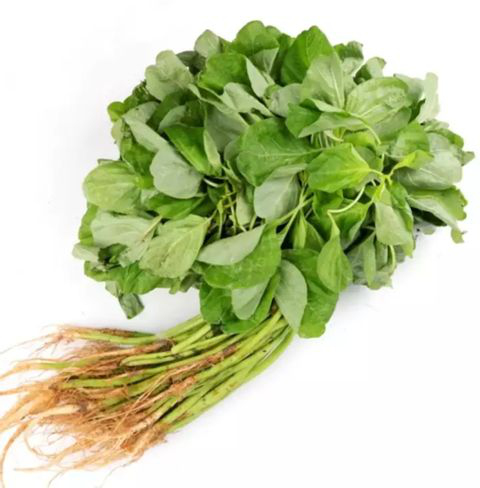Bayam: (11, 28, 473, 486)
